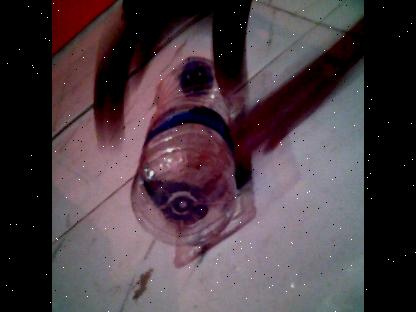Plastic Bottle: (130, 54, 242, 246)
